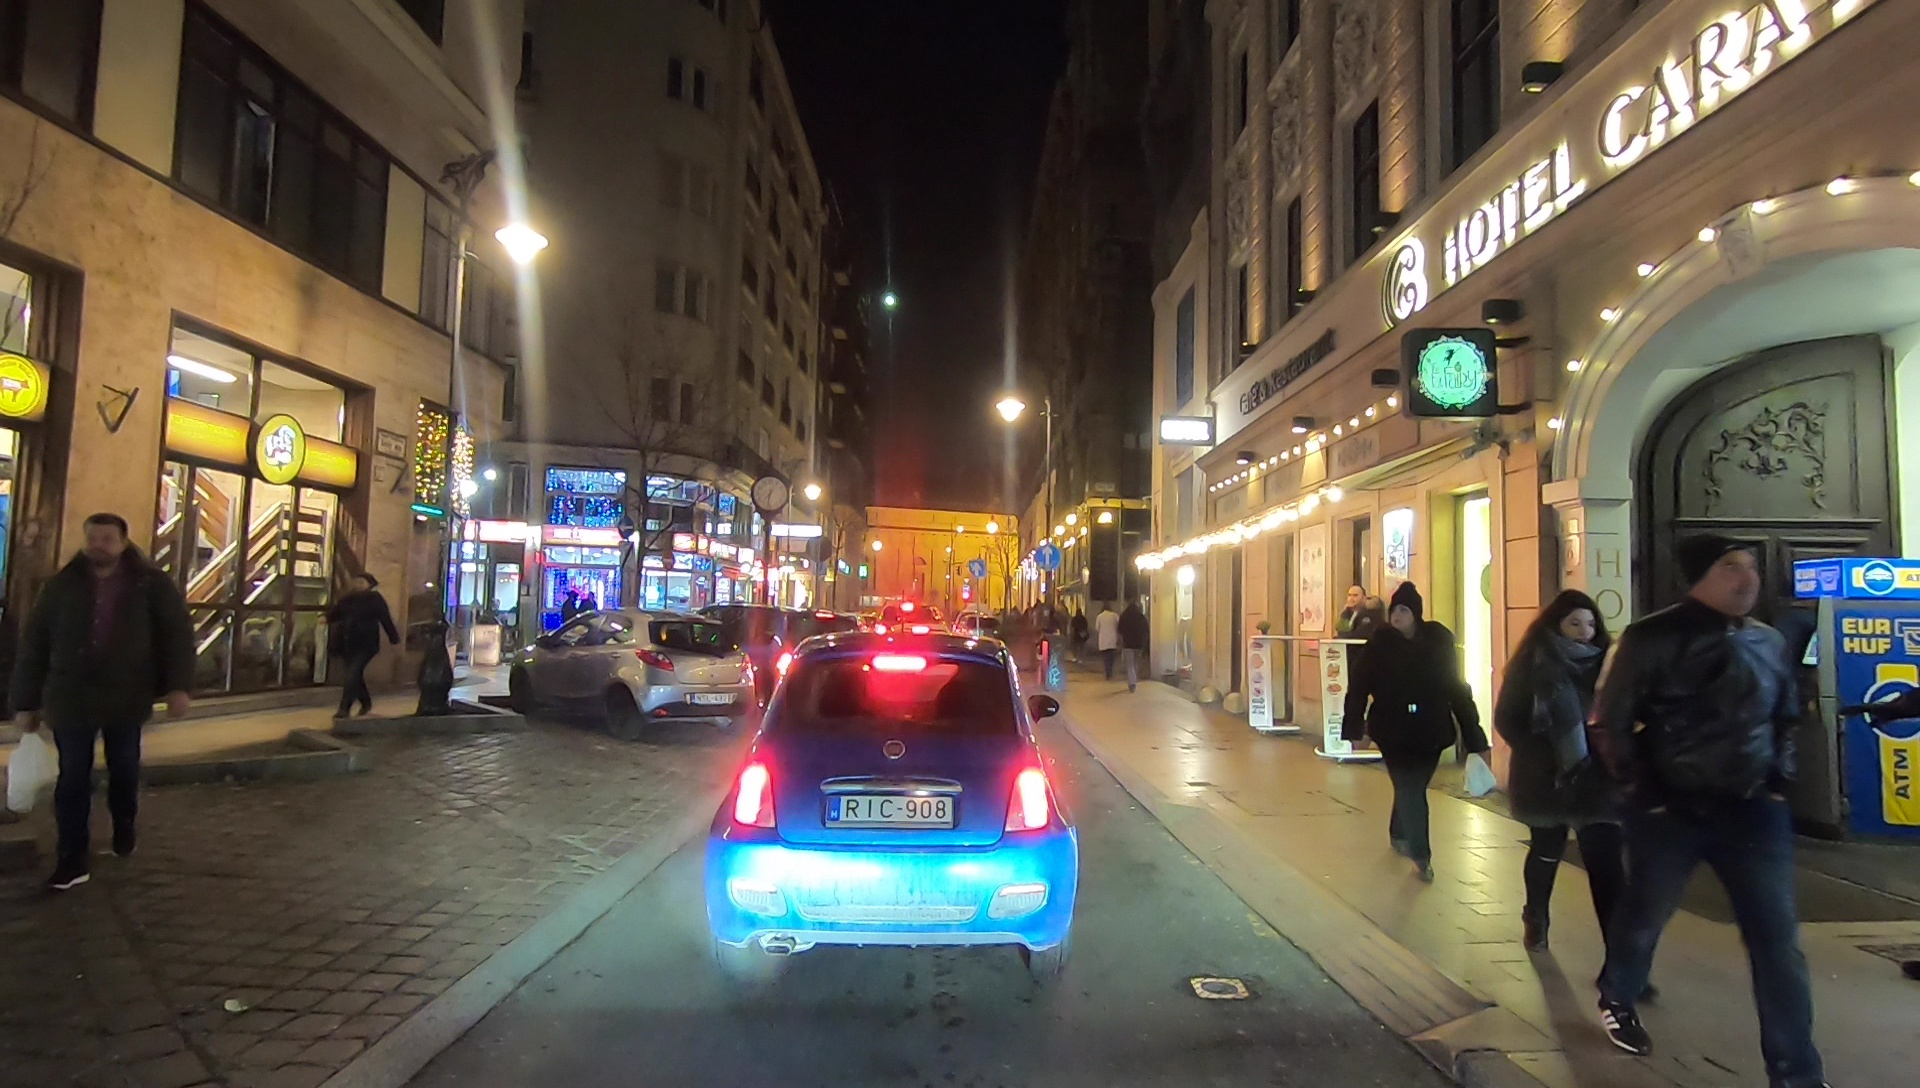person: (1608, 541, 1819, 1086), (12, 521, 173, 889), (1506, 599, 1641, 974), (1367, 597, 1480, 884), (330, 573, 389, 728), (1328, 584, 1373, 752), (1119, 602, 1149, 691), (1097, 602, 1121, 695)
